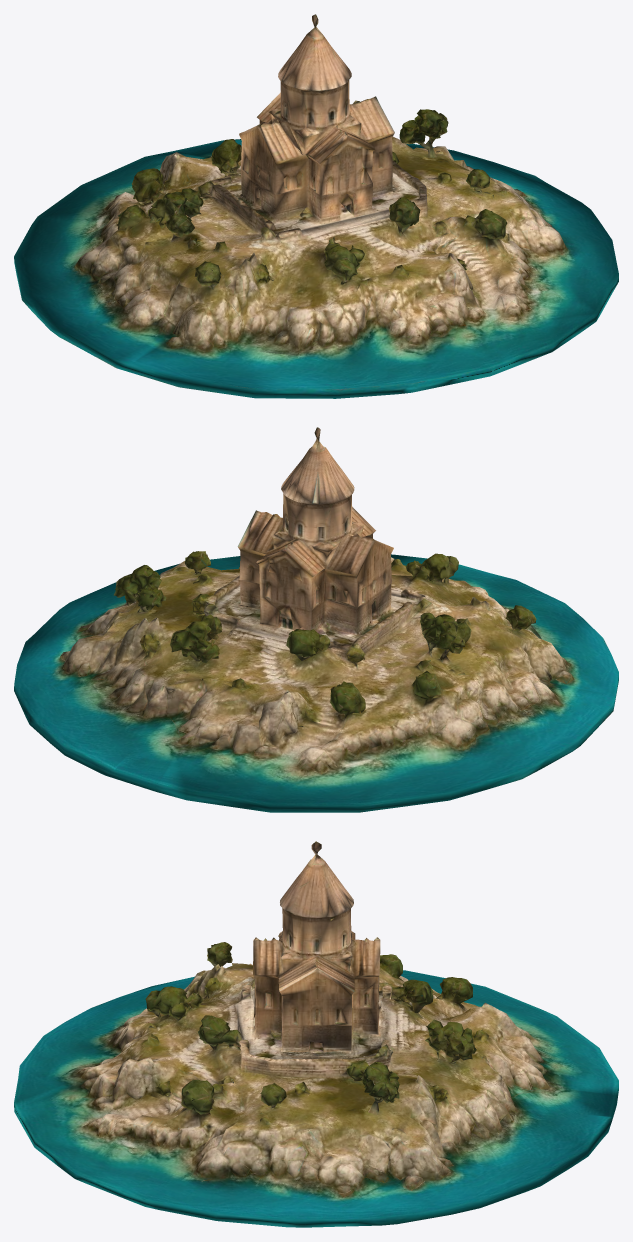
Rendered from city_van_akdamar_island.glb.
The picture shows the model from 3 angles, top to bottom: view 1: azimuth 30°, elevation 25°; view 2: azimuth 150°, elevation 25°; view 3: azimuth 270°, elevation 25°; orthographic projection.
Parts seen in each view (by area): view 1: Mesh1.0; view 2: Mesh1.0; view 3: Mesh1.0.
Part boxes in pixels (x1,y1,x2,y2): Mesh1.0: (14, 14, 618, 398); Mesh1.0: (14, 427, 618, 812); Mesh1.0: (14, 841, 618, 1227).
Bounding box in the file's own units: 23.19 × 11 × 23.18.
1 material, 1 textured.
